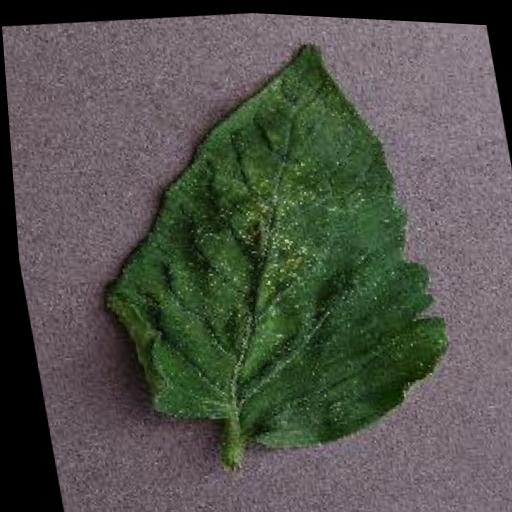Spider Mites: (59, 20, 462, 470)
